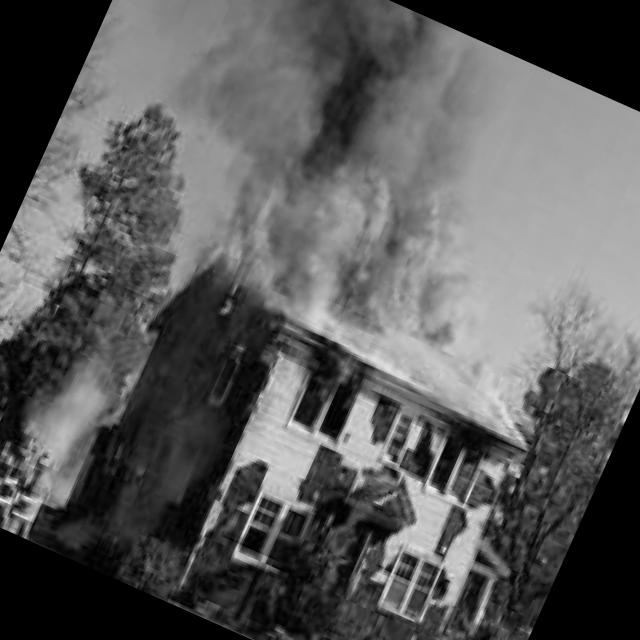fire: (204, 106, 472, 356)
smoke: (133, 0, 521, 184), (8, 325, 138, 468), (144, 56, 277, 168), (410, 242, 520, 364)
